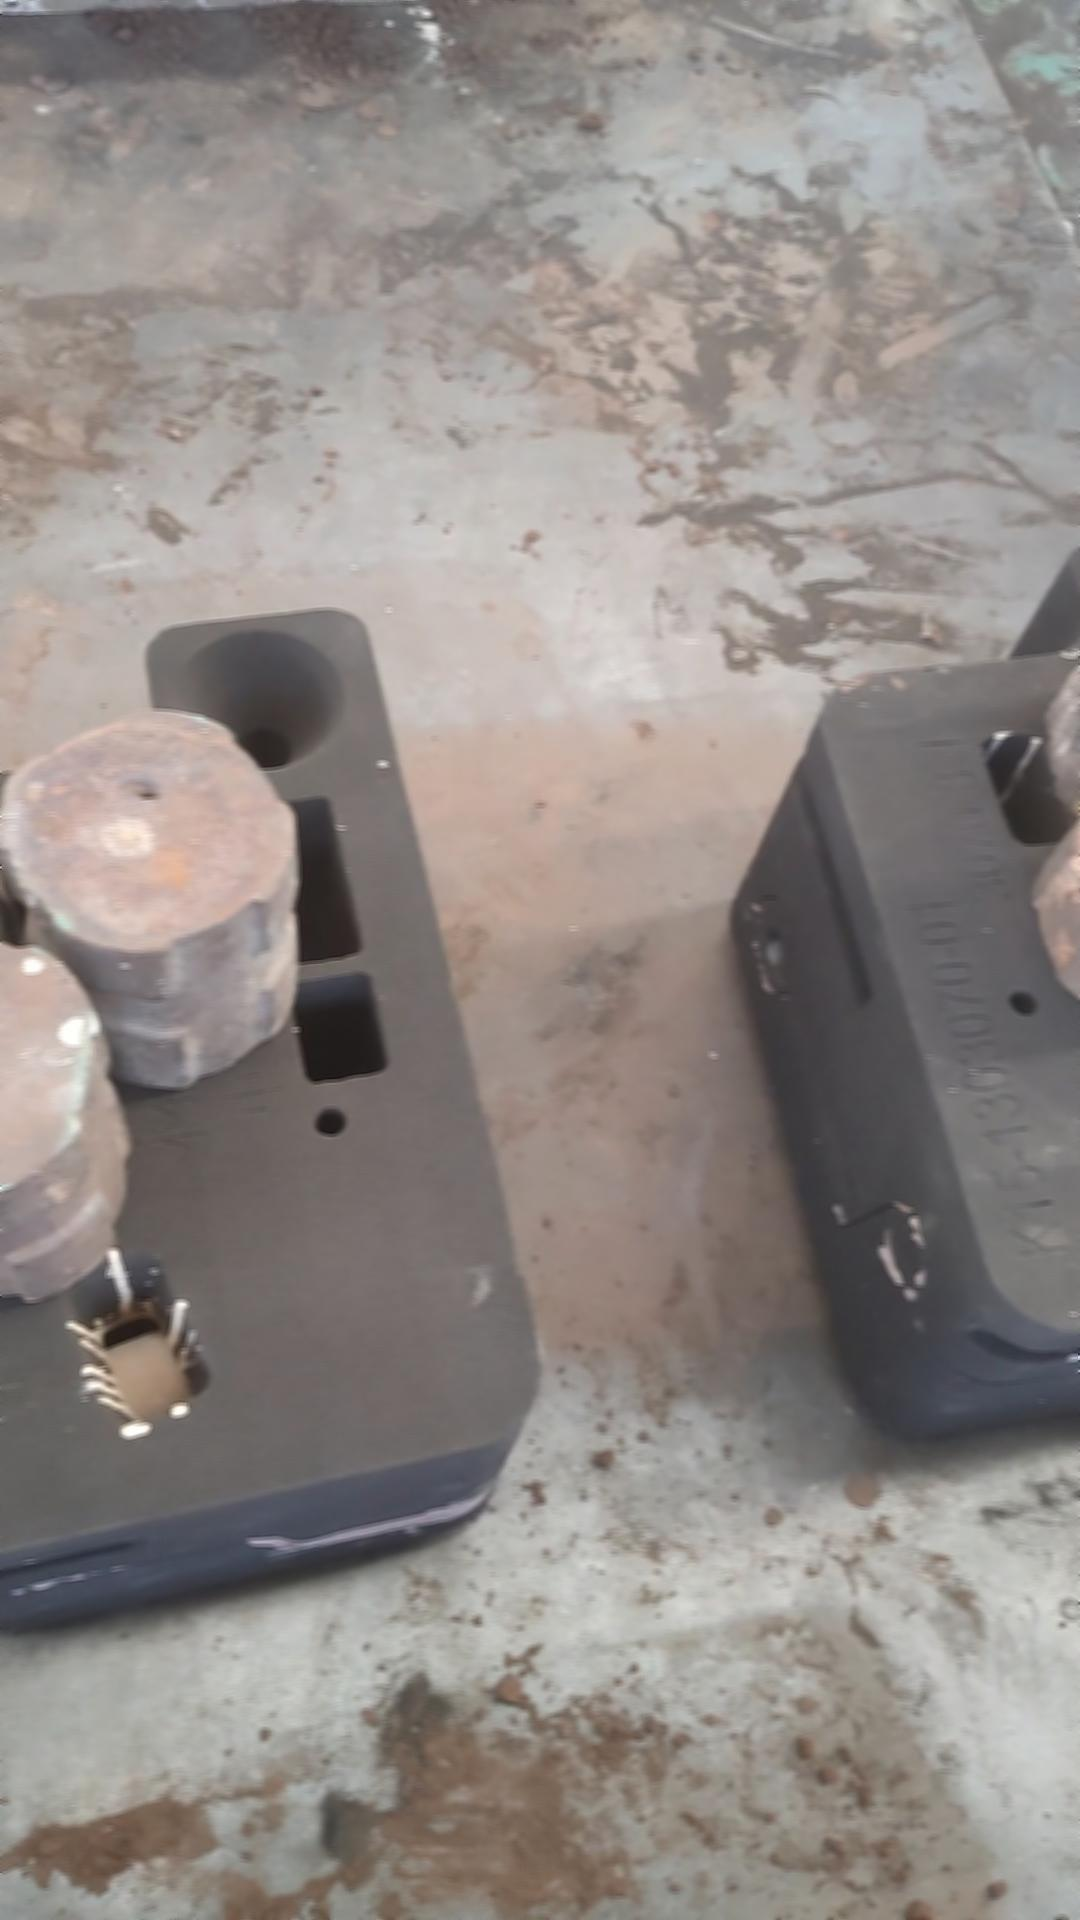pouring hole: (174, 628, 345, 771)
